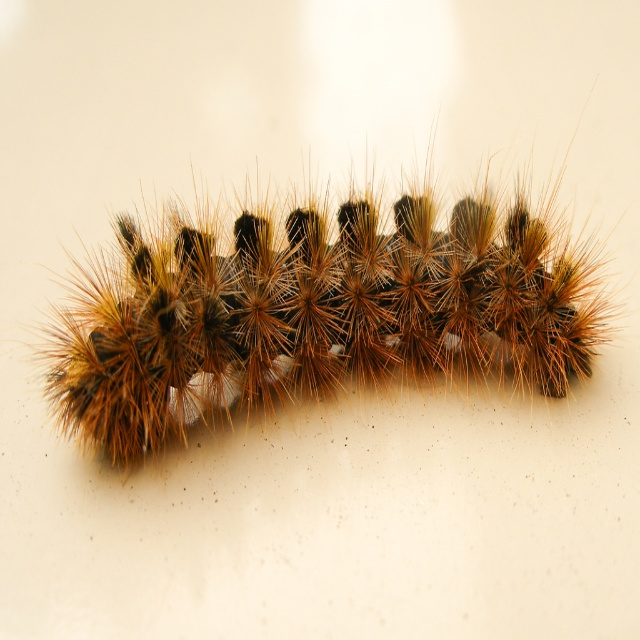Caterpillar: (0, 73, 637, 484)
